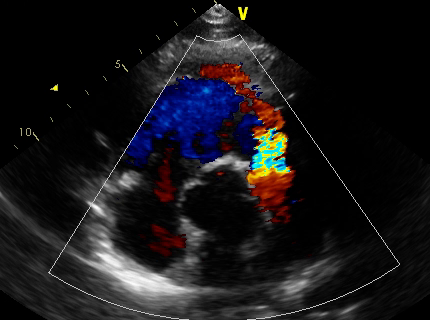PR: (247, 125, 294, 200)
